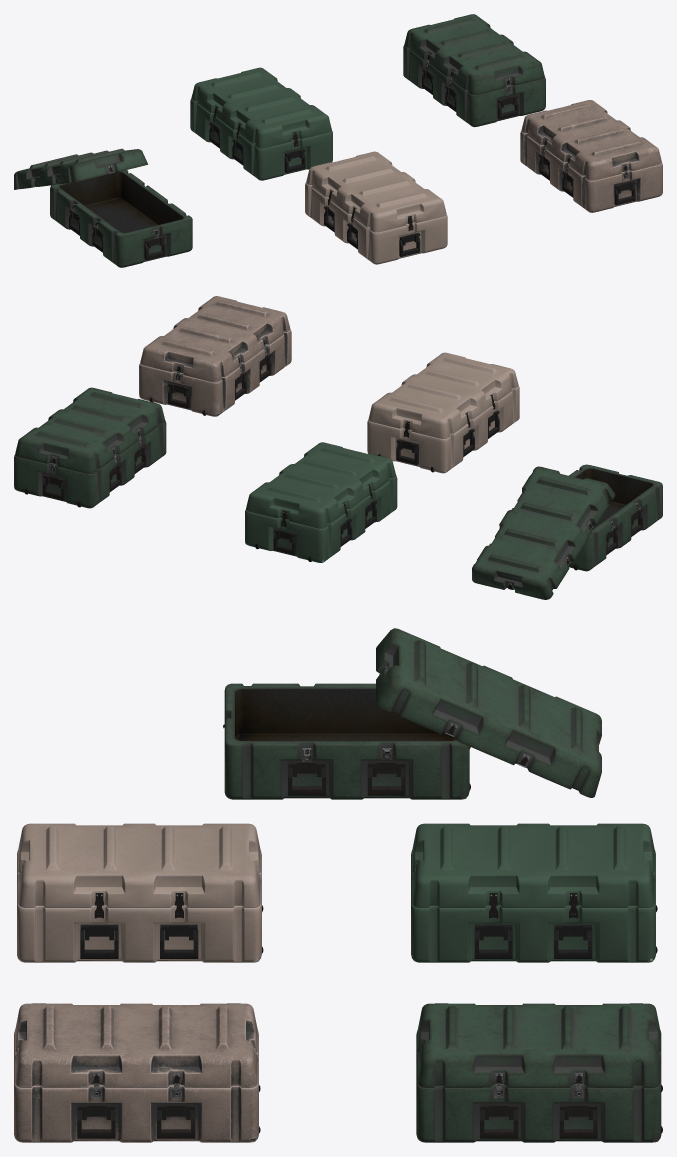
The model's file is MilitaryCase_Source.glb.
3 views of the same model, one above another, from view 1: azimuth 30°, elevation 25°; view 2: azimuth 150°, elevation 25°; view 3: azimuth 270°, elevation 25° (orthographic). The views are drawn at different scales.
Parts seen in each view (by area): view 1: Box, Cap_5, Cap_4, Cap_2, Cap_3, Box_5, Box_4, Box_3, Box_2, Cap; view 2: Cap, Cap_2, Cap_3, Cap_4, Cap_5, Box_2, Box_3, Box_5, Box_4, Box; view 3: Box, Cap_3, Cap_4, Cap_2, Cap_5, Cap, Box_3, Box_5, Box_2, Box_4.
Boxes of the visible parts, x1,y1,x2,y2 form: Box: (50, 170, 192, 267); Cap_5: (521, 100, 661, 180); Cap_4: (306, 151, 446, 232); Cap_2: (191, 67, 331, 148); Cap_3: (404, 14, 544, 94); Box_5: (520, 131, 662, 212); Box_4: (305, 183, 447, 264); Box_3: (403, 45, 545, 127); Box_2: (190, 99, 332, 180); Cap: (14, 148, 147, 189); Cap: (472, 466, 615, 599); Cap_2: (246, 442, 395, 528); Cap_3: (15, 387, 165, 473); Cap_4: (368, 352, 518, 438); Cap_5: (140, 296, 290, 382); Box_2: (245, 475, 397, 562); Box_3: (14, 421, 166, 508); Box_5: (139, 329, 291, 416); Box_4: (367, 386, 519, 473); Box: (568, 464, 662, 571); Box: (224, 683, 469, 799); Cap_3: (417, 1003, 660, 1087); Cap_4: (18, 823, 260, 907); Cap_2: (412, 823, 654, 907); Cap_5: (15, 1003, 257, 1087); Cap: (376, 628, 601, 797); Box_3: (416, 1030, 661, 1142); Box_5: (14, 1030, 258, 1142); Box_2: (411, 850, 655, 962); Box_4: (17, 850, 261, 962).
Bounding box in the file's own units: 58.35 × 7.86 × 39.37.
Materials: 4 (4 with a texture image).
